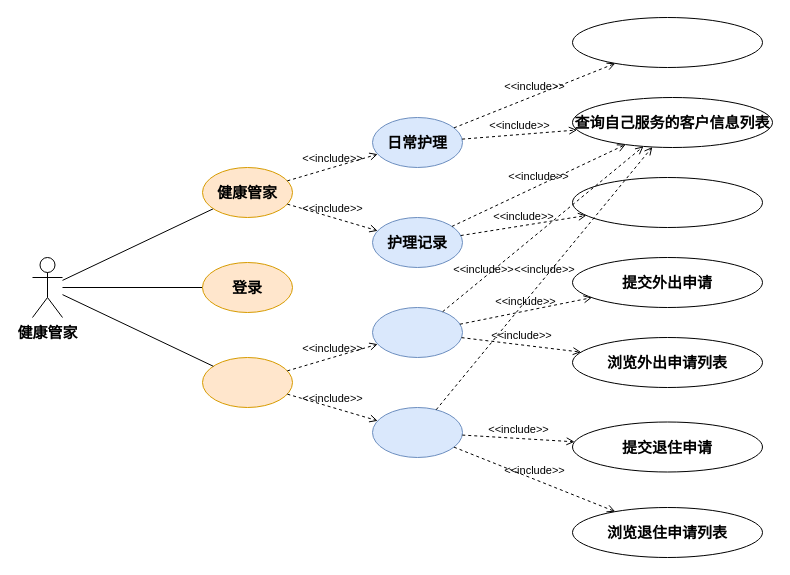
Some shapes in this 790 by 575 pixel diagram are drawn without their labels. The shapes that lost their labels are listed below. From the top down, each one's box as (x1, y1, x2, y2) in pixels, then its label:
(572, 16, 762, 68): 生成护理记录
(572, 176, 762, 228): 浏览护理记录
(372, 306, 462, 358): 外出登记
(202, 356, 292, 408): 客户管理
(372, 406, 462, 458): 退住登记
